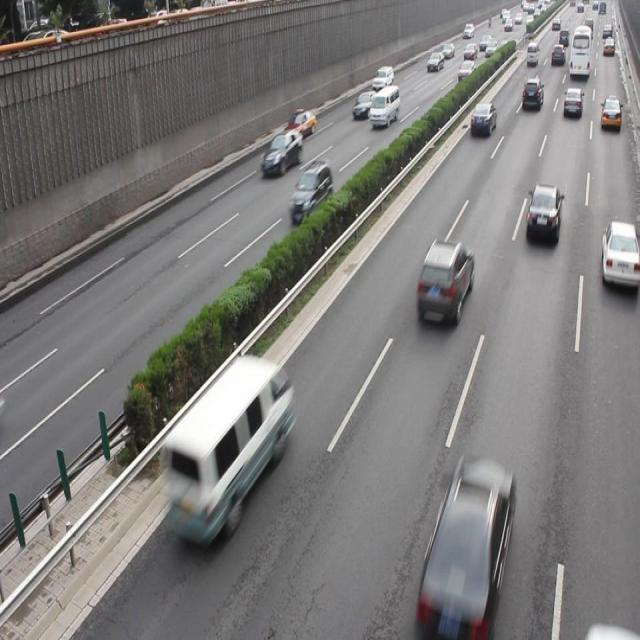car: (420, 458, 515, 624), (414, 238, 473, 323), (599, 220, 640, 290), (289, 159, 331, 224), (524, 182, 560, 245), (260, 132, 299, 176), (469, 101, 495, 137), (285, 109, 315, 140), (598, 96, 620, 128), (352, 91, 376, 119)
truck: (159, 356, 290, 546), (368, 84, 398, 128)
